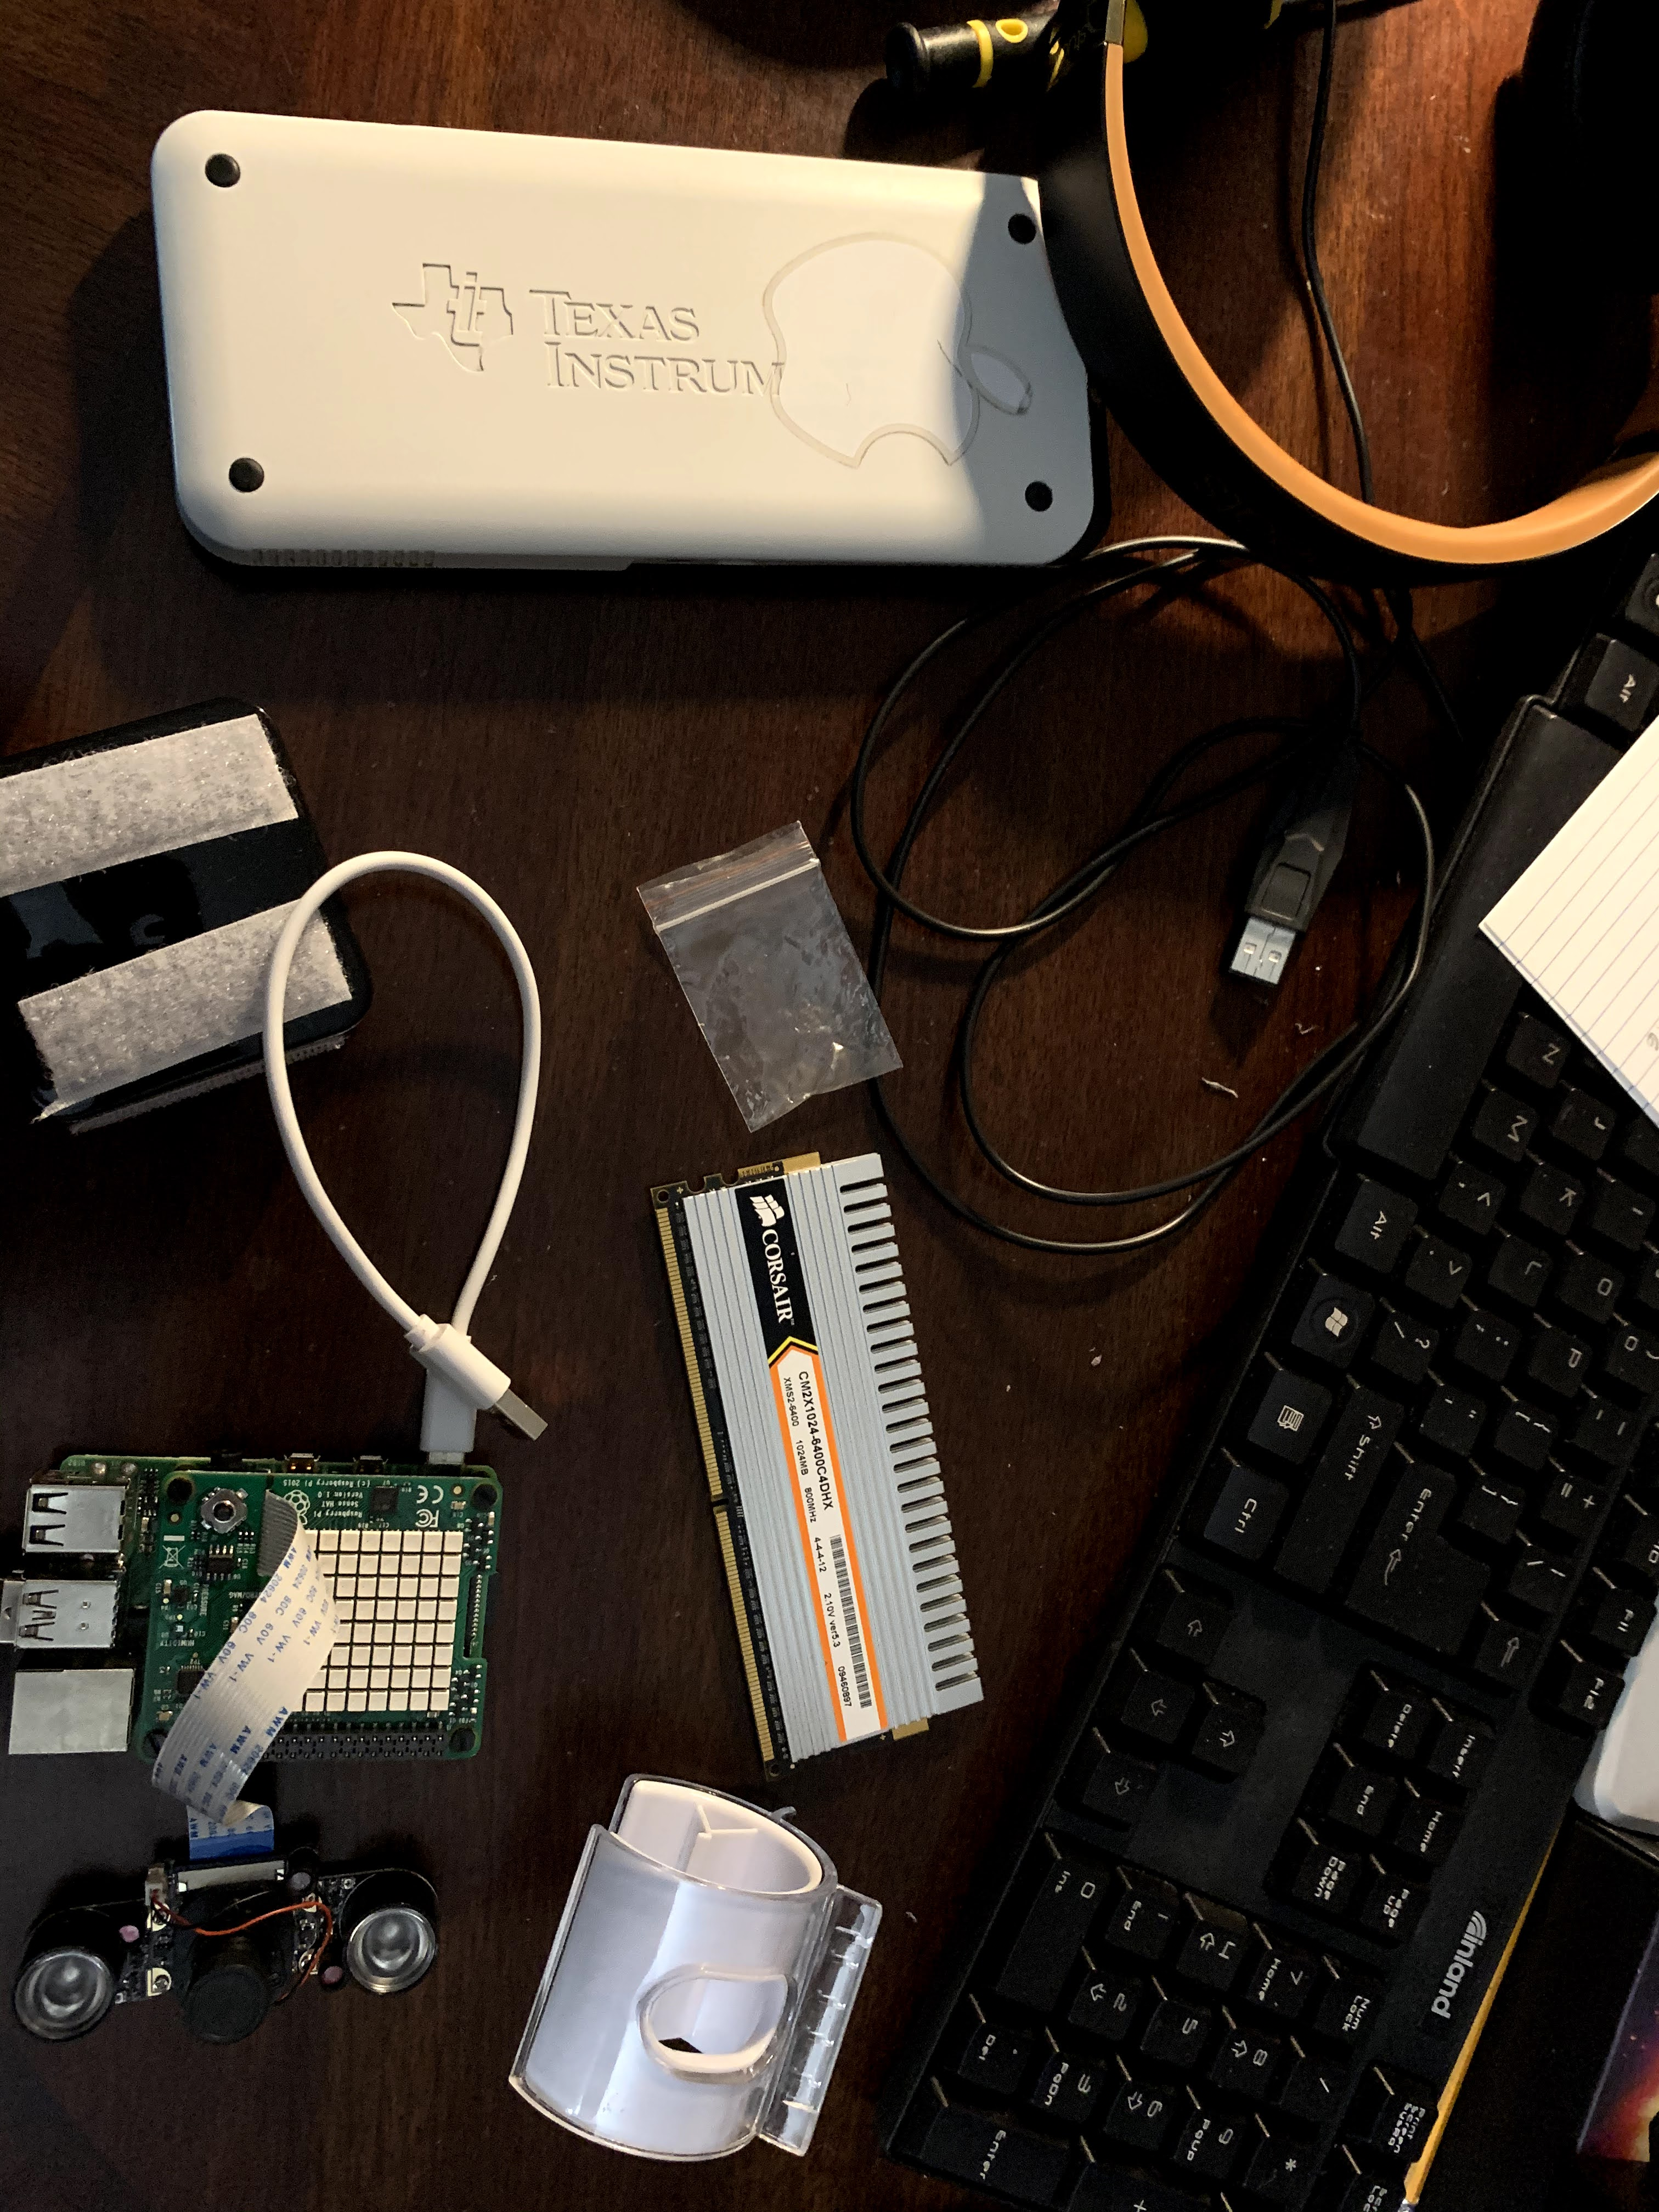Space-debris-medium: (620, 1122, 1009, 1784)
